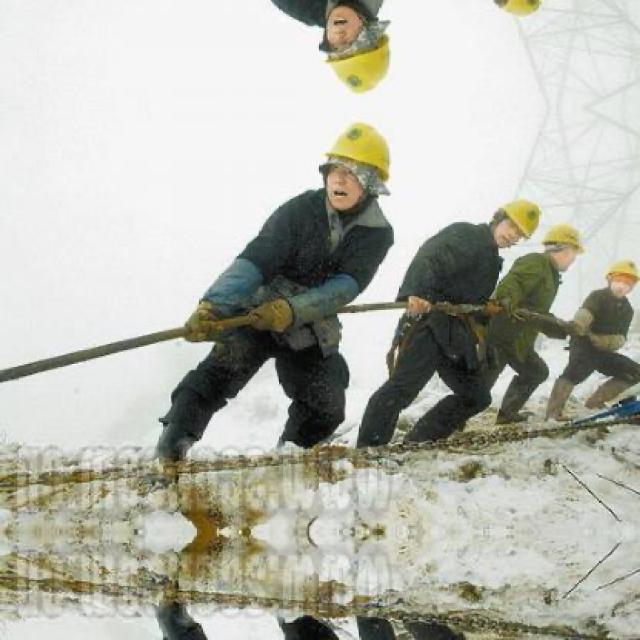con casco: (266, 126, 386, 224), (522, 228, 589, 301), (463, 203, 539, 251), (587, 248, 640, 312)
